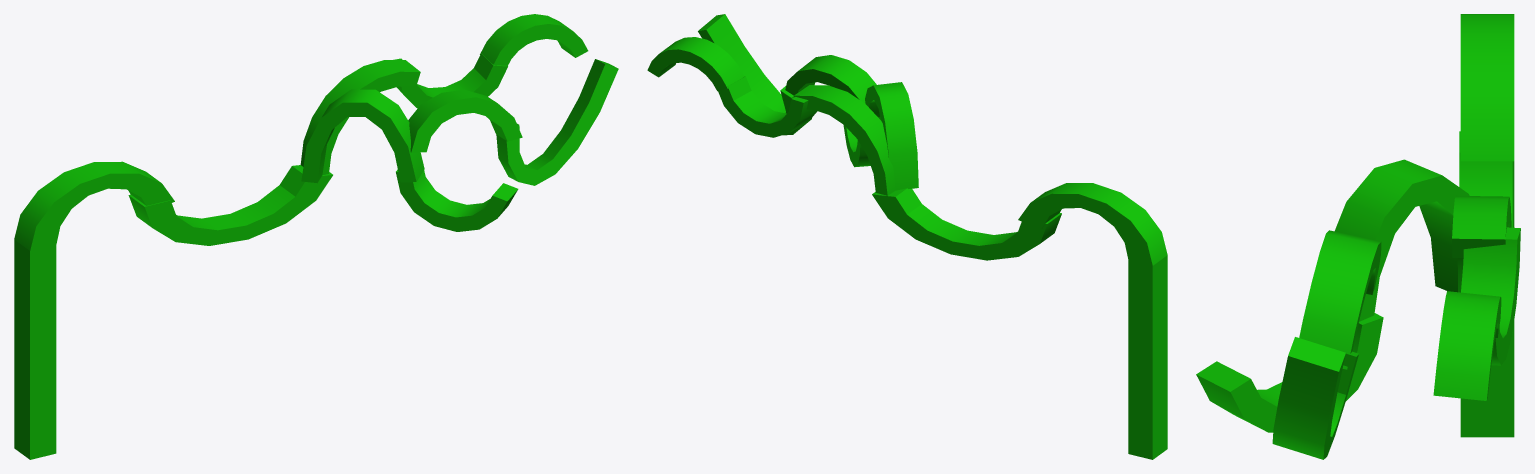
File: Vine 3.fbx
3 renders of one model, left to right at view 1: azimuth 30°, elevation 25°; view 2: azimuth 150°, elevation 25°; view 3: azimuth 270°, elevation 25°, orthographic. The views are drawn at different scales.
Parts seen in each view (by area): view 1: Arch__18_, Arch__20_, Arch__24_, Arch__28_, Arch__25_, Arch__27_, Arch__21_, Arch__23_, Arch__22_; view 2: Arch__18_, Arch__20_, Arch__21_, Arch__24_, Arch__22_, Arch__23_, Arch__28_, Arch__27_, Arch__25_; view 3: Arch__18_, Arch__24_, Arch__28_, Arch__27_, Arch__23_, Arch__25_, Arch__22_, Arch__21_, Arch__20_.
Part boxes in pixels (x1,y1,x2,y2): Arch__18_: [14, 161, 174, 459]; Arch__20_: [128, 165, 332, 245]; Arch__24_: [301, 89, 424, 183]; Arch__28_: [496, 59, 618, 185]; Arch__25_: [396, 169, 518, 231]; Arch__27_: [408, 89, 522, 152]; Arch__21_: [300, 60, 420, 175]; Arch__23_: [480, 14, 588, 65]; Arch__22_: [393, 53, 507, 108]; Arch__18_: [1018, 183, 1167, 459]; Arch__20_: [872, 188, 1061, 260]; Arch__21_: [794, 85, 895, 195]; Arch__24_: [865, 82, 918, 190]; Arch__22_: [718, 76, 817, 137]; Arch__23_: [647, 37, 744, 91]; Arch__28_: [698, 14, 811, 135]; Arch__27_: [785, 55, 876, 103]; Arch__25_: [843, 124, 870, 167]; Arch__18_: [1460, 14, 1514, 437]; Arch__24_: [1334, 159, 1469, 321]; Arch__28_: [1272, 337, 1358, 459]; Arch__27_: [1299, 230, 1381, 369]; Arch__23_: [1433, 291, 1501, 400]; Arch__25_: [1196, 313, 1383, 432]; Arch__22_: [1461, 227, 1520, 365]; Arch__21_: [1452, 195, 1511, 292]; Arch__20_: [1459, 131, 1512, 332].
Bounding box in the file's own units: 1995 × 1088 × 607.
